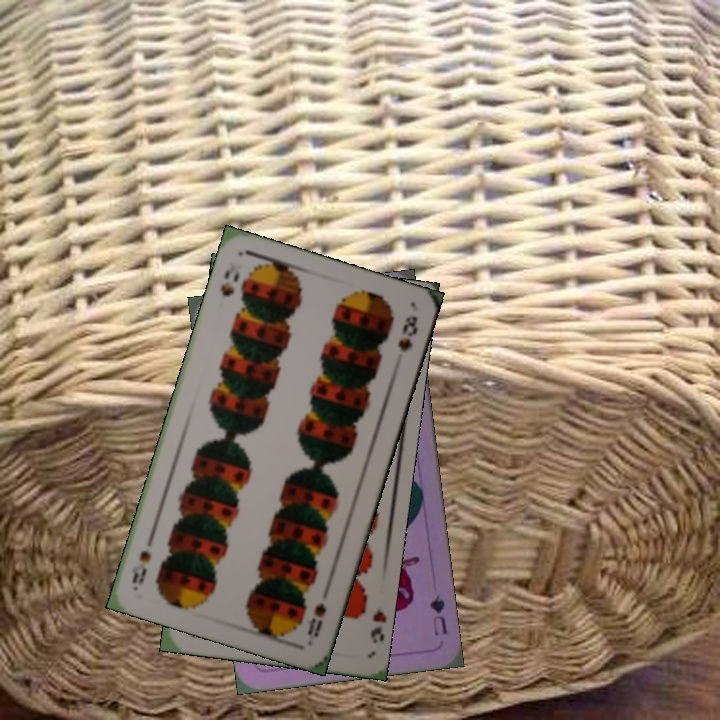GU: (425, 590, 450, 638)
H9: (366, 605, 387, 645)
S8: (303, 599, 329, 640), (216, 265, 242, 300)
